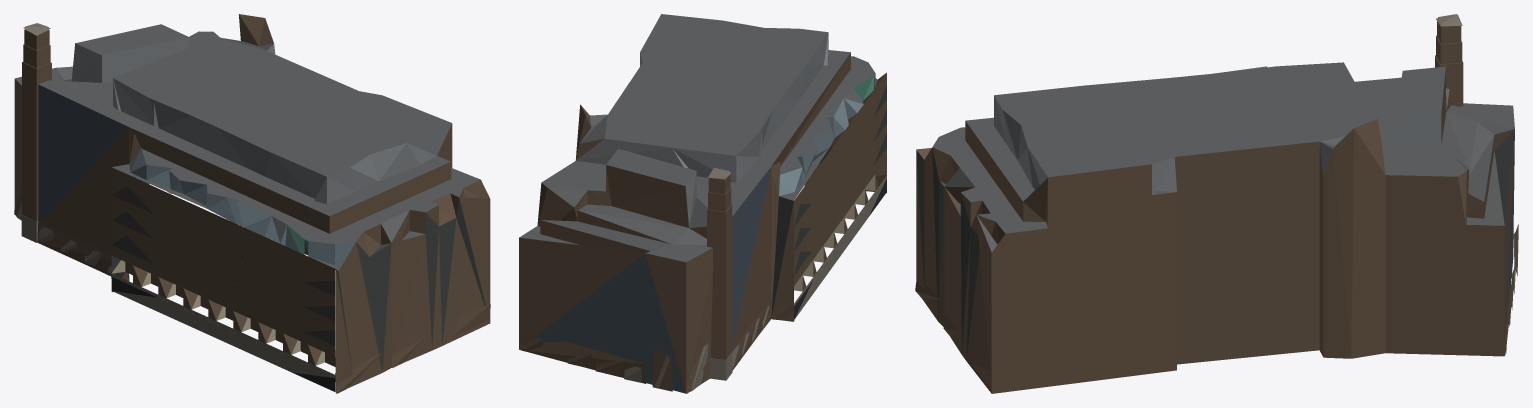
File: utrechtsestraat-9-17.lod2.glb
3 renders of one model, left to right at view 1: azimuth 30°, elevation 25°; view 2: azimuth 150°, elevation 25°; view 3: azimuth 270°, elevation 25°, orthographic. The views are drawn at different scales.
Visible parts, largest first — view 1: lod2; view 2: lod2; view 3: lod2.
Part boxes in pixels (bbox=[...]): lod2: bbox=[14, 14, 490, 393]; lod2: bbox=[519, 14, 886, 393]; lod2: bbox=[915, 14, 1518, 393].
Bounding box in the file's own units: 52.93 × 40.49 × 93.51.
